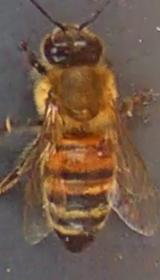varroa_mite: (86, 128, 124, 168)
